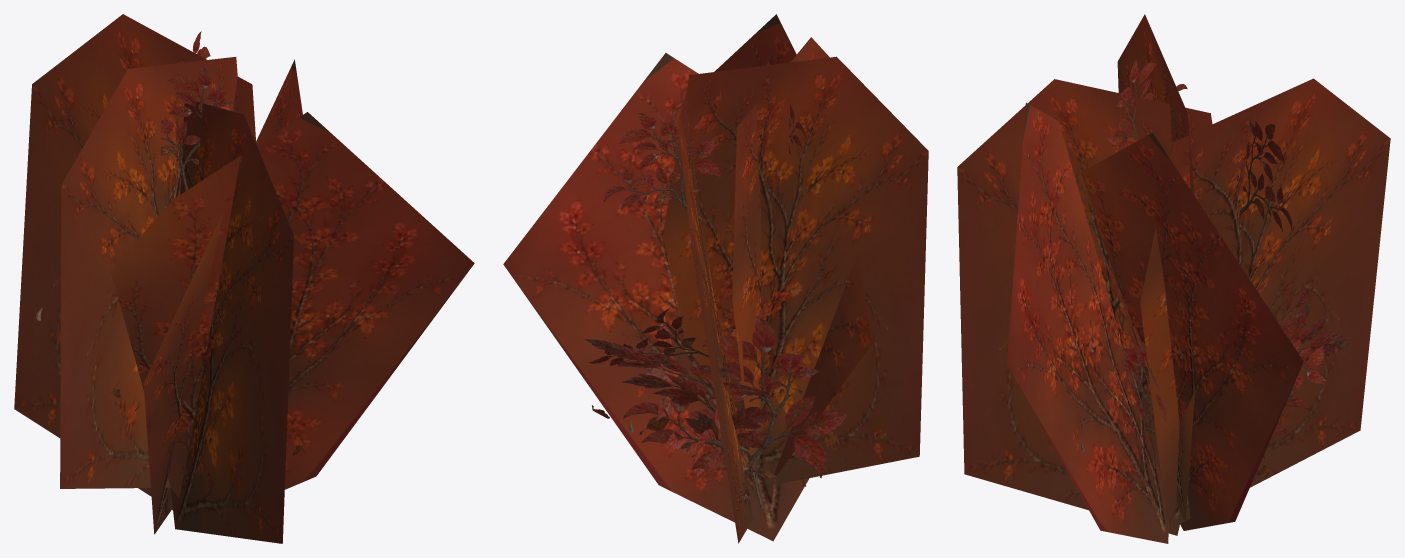
Rendered from Bush.fbx.
3 renders of one model, left to right at view 1: azimuth 30°, elevation 25°; view 2: azimuth 150°, elevation 25°; view 3: azimuth 270°, elevation 25°, orthographic. The views are drawn at different scales.
Parts seen in each view (by area): view 1: Bush_2; view 2: Bush_2, Bush_1; view 3: Bush_2, Bush_1.
Boxes of the visible parts, left/top/right/bottom form: Bush_2: left=14, top=14, right=474, bottom=543; Bush_2: left=503, top=14, right=928, bottom=543; Bush_1: left=584, top=316, right=886, bottom=523; Bush_2: left=957, top=14, right=1390, bottom=543; Bush_1: left=1081, top=243, right=1348, bottom=494.
Bounding box in the file's own units: 406 × 536 × 423.
